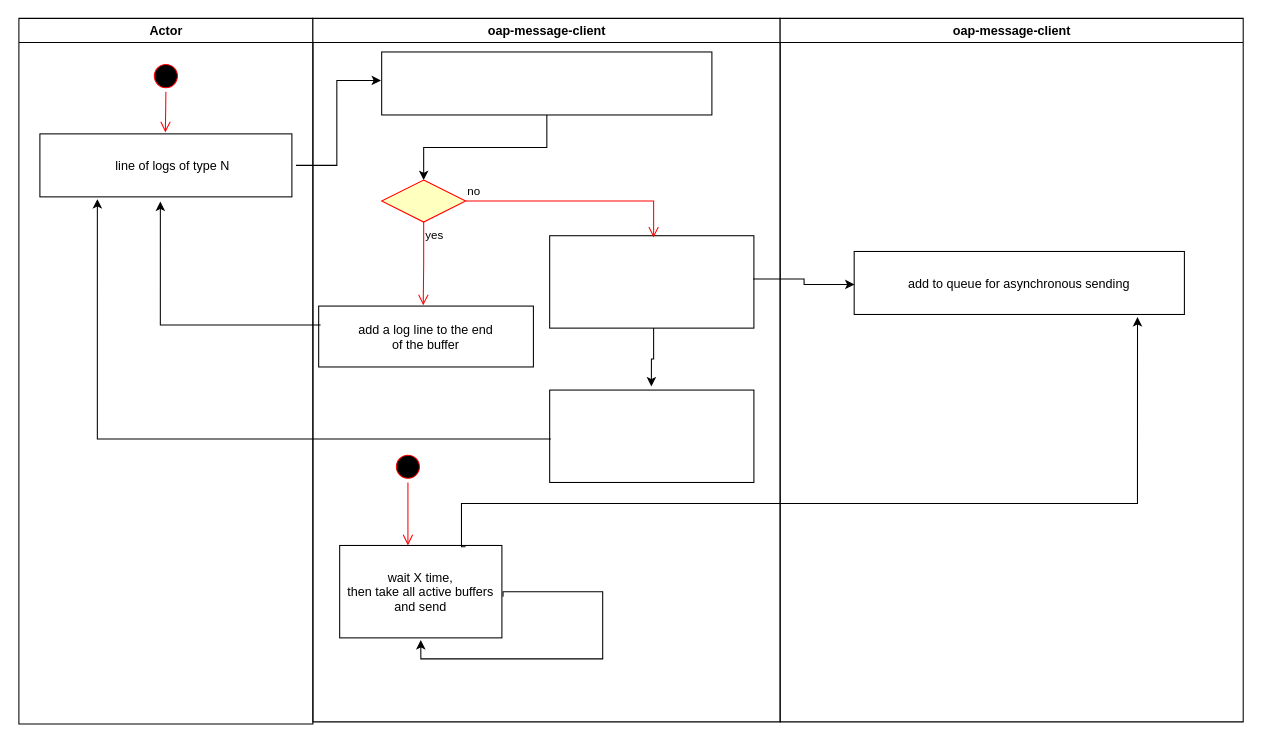
Some shapes in this 1261 by 742 pixel diagram are drawn without their labels. Here are the shapes that lost their labels. From the top down, the box of each, then its label:
(381, 51, 712, 115): getOrCreate buffer of type N
(381, 179, 466, 222): free space exists
(549, 235, 754, 328): remove buffer from available
(549, 389, 754, 482): return the buffer to the cache
